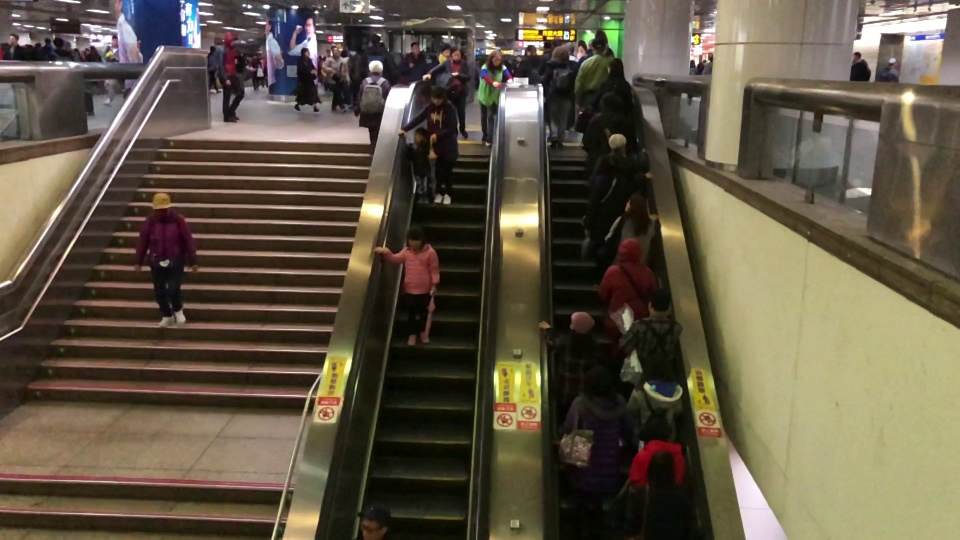person_head: (646, 449, 678, 492), (359, 501, 391, 540), (583, 365, 615, 402), (642, 353, 675, 383), (639, 414, 670, 441), (601, 113, 631, 139), (615, 236, 642, 264), (647, 287, 672, 317), (569, 309, 596, 336), (599, 91, 621, 114), (405, 225, 425, 250), (624, 193, 646, 214), (606, 133, 626, 154), (428, 84, 447, 106), (607, 160, 630, 178), (607, 56, 625, 78), (152, 192, 171, 211), (487, 49, 503, 69), (551, 45, 569, 60), (224, 30, 239, 47), (368, 59, 383, 75), (591, 39, 607, 54), (450, 45, 465, 60), (413, 126, 426, 143), (8, 32, 21, 45), (409, 41, 420, 56), (441, 43, 450, 58), (52, 35, 63, 47), (886, 58, 898, 69), (526, 45, 537, 56), (370, 33, 380, 45), (110, 34, 119, 47), (852, 50, 861, 63), (300, 47, 311, 56), (332, 47, 341, 58), (689, 58, 695, 67), (44, 37, 50, 44), (708, 54, 713, 62)
person_vbox: (560, 365, 625, 539), (133, 191, 201, 330), (585, 160, 653, 288), (373, 225, 440, 348), (397, 84, 458, 206), (597, 235, 658, 338), (536, 308, 599, 400), (626, 353, 686, 444), (631, 450, 690, 540), (422, 44, 472, 140), (627, 413, 686, 491), (626, 286, 684, 363), (602, 193, 659, 266), (477, 48, 513, 147), (208, 30, 245, 122), (583, 90, 635, 154), (543, 44, 573, 153), (357, 59, 390, 156), (574, 38, 614, 107), (590, 131, 647, 178), (588, 56, 632, 113), (404, 126, 431, 209), (293, 47, 323, 114), (321, 47, 351, 112), (360, 33, 396, 81), (101, 34, 120, 105), (397, 41, 427, 78), (516, 45, 546, 80), (47, 35, 73, 63), (4, 32, 26, 61), (849, 49, 868, 82), (877, 57, 898, 83), (685, 57, 696, 103), (701, 53, 714, 74)
